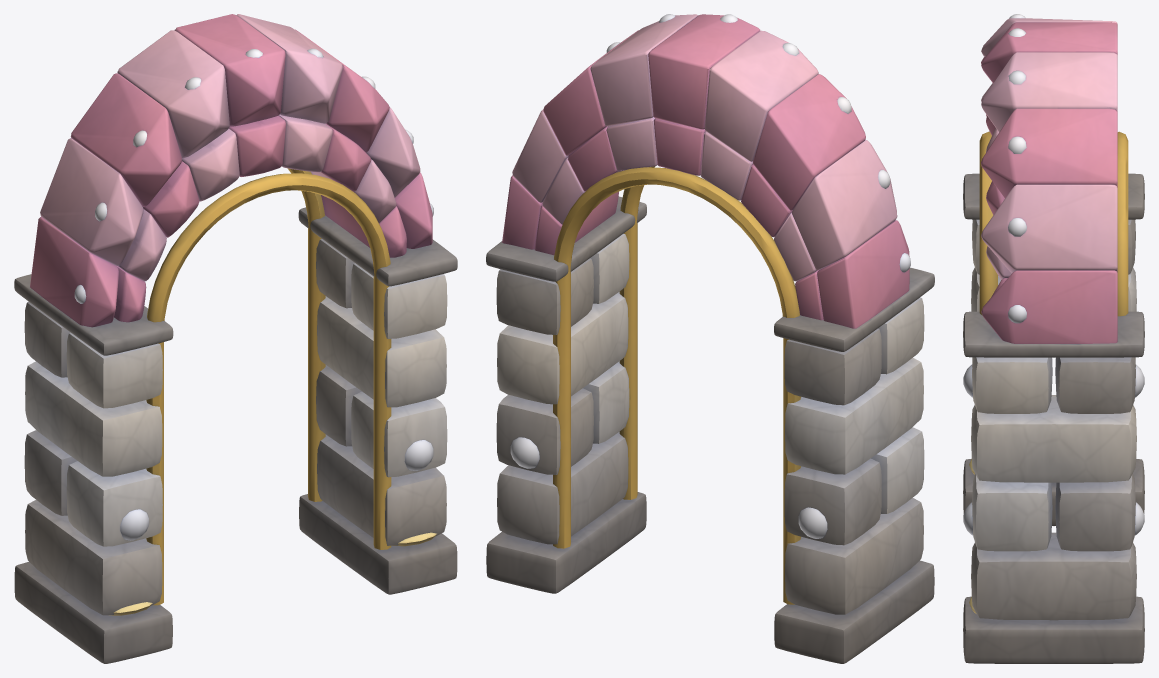
Rendered from CC_G02_ShellGoalArch.fbx.
3 views of the same model, side by side, from view 1: azimuth 30°, elevation 25°; view 2: azimuth 150°, elevation 25°; view 3: azimuth 270°, elevation 25° (orthographic).
Parts seen in each view (by area): view 1: Arch, Frame_L, Frame_R; view 2: Arch, Frame_L, Frame_R; view 3: Frame_R, Arch, Frame_L.
Part boxes in pixels (bbox=[...]): Arch: bbox=[30, 14, 433, 605]; Frame_L: bbox=[14, 274, 173, 663]; Frame_R: bbox=[298, 207, 457, 594]; Arch: bbox=[502, 14, 910, 604]; Frame_L: bbox=[774, 267, 934, 663]; Frame_R: bbox=[486, 196, 646, 593]; Frame_R: bbox=[963, 311, 1144, 663]; Arch: bbox=[979, 14, 1128, 343]; Frame_L: bbox=[963, 173, 1144, 525].
Size of the model in its own units: 2.7 by 4.01 by 1.2.
